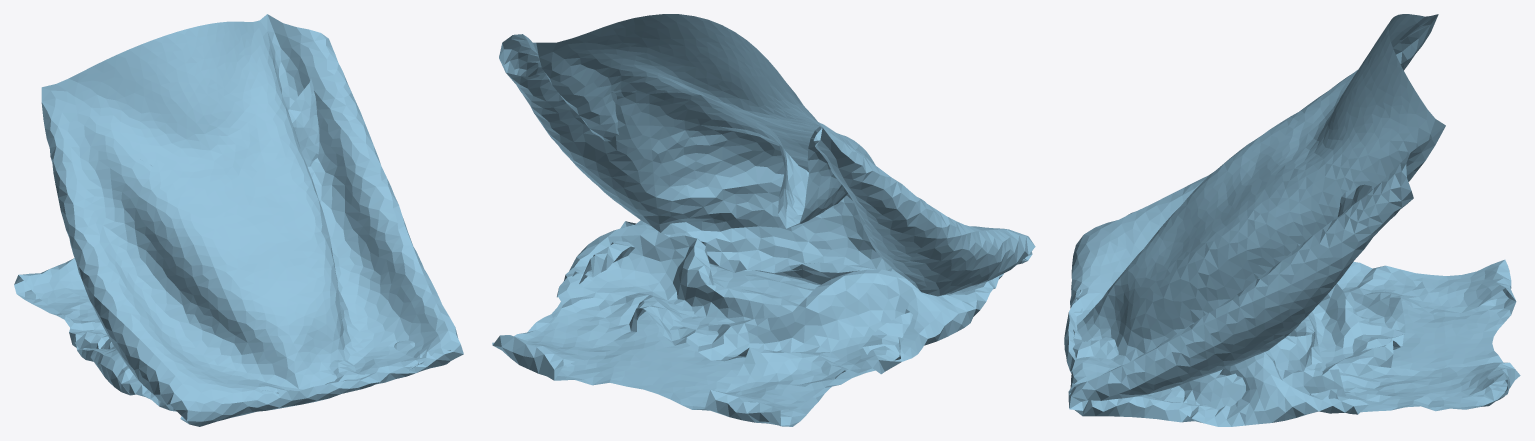
The model's file is frame_17.glb.
3 views of the same model, side by side, from view 1: azimuth 30°, elevation 25°; view 2: azimuth 150°, elevation 25°; view 3: azimuth 270°, elevation 25° (orthographic). The views are drawn at different scales.
Visible parts, largest first — view 1: frame_17.obj; view 2: frame_17.obj; view 3: frame_17.obj.
Part boxes in pixels (box(x1,y1,x2,y2)): frame_17.obj: box(14, 14, 463, 426); frame_17.obj: box(492, 14, 1035, 426); frame_17.obj: box(1064, 14, 1520, 426).
Size of the model in its own units: 0.8418 by 0.7176 by 0.9334.
